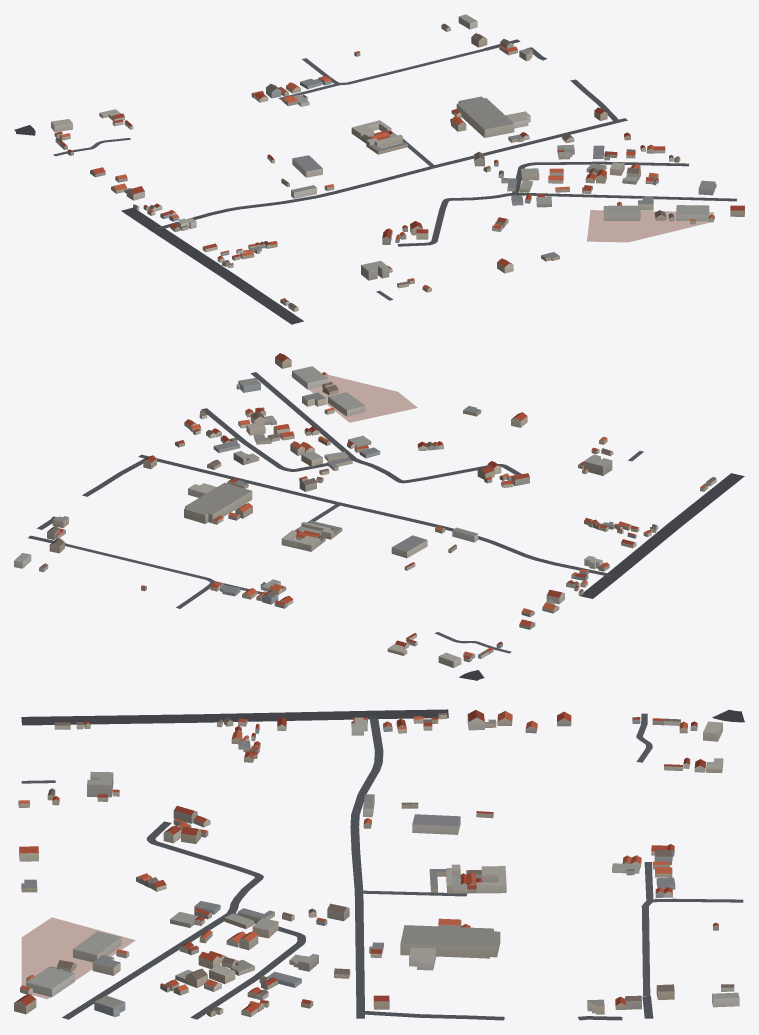
The picture shows the model from 3 angles, top to bottom: view 1: azimuth 30°, elevation 25°; view 2: azimuth 150°, elevation 25°; view 3: azimuth 270°, elevation 25°; orthographic projection. The views are drawn at different scales.
Parts seen in each view (by area): view 1: buildings_roofs, buildings_walls, roads, landuse; view 2: buildings_walls, buildings_roofs, roads, landuse; view 3: buildings_roofs, buildings_walls, roads, landuse.
Part boxes in pixels (x1,y1,x2,y2): buildings_roofs: (51, 14, 744, 308); buildings_walls: (51, 17, 744, 311); roads: (14, 39, 736, 324); landuse: (587, 210, 713, 242); buildings_walls: (14, 357, 716, 667); buildings_roofs: (14, 353, 716, 661); roads: (28, 372, 744, 680); landuse: (291, 373, 417, 422); buildings_roofs: (15, 710, 739, 1012); buildings_walls: (14, 713, 739, 1017); roads: (21, 709, 744, 1020); landuse: (21, 917, 135, 999).
Bounding box in the file's own units: 510 × 9.64 × 507.
